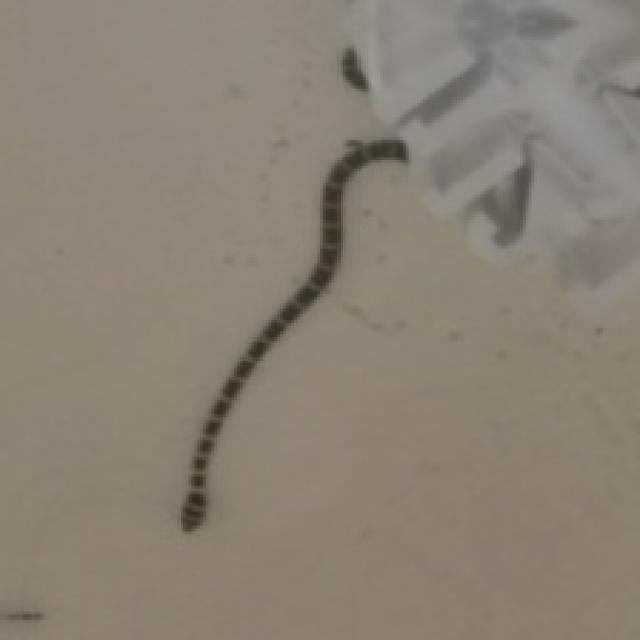paradise tree snake: (180, 0, 637, 529), (180, 140, 406, 529)
